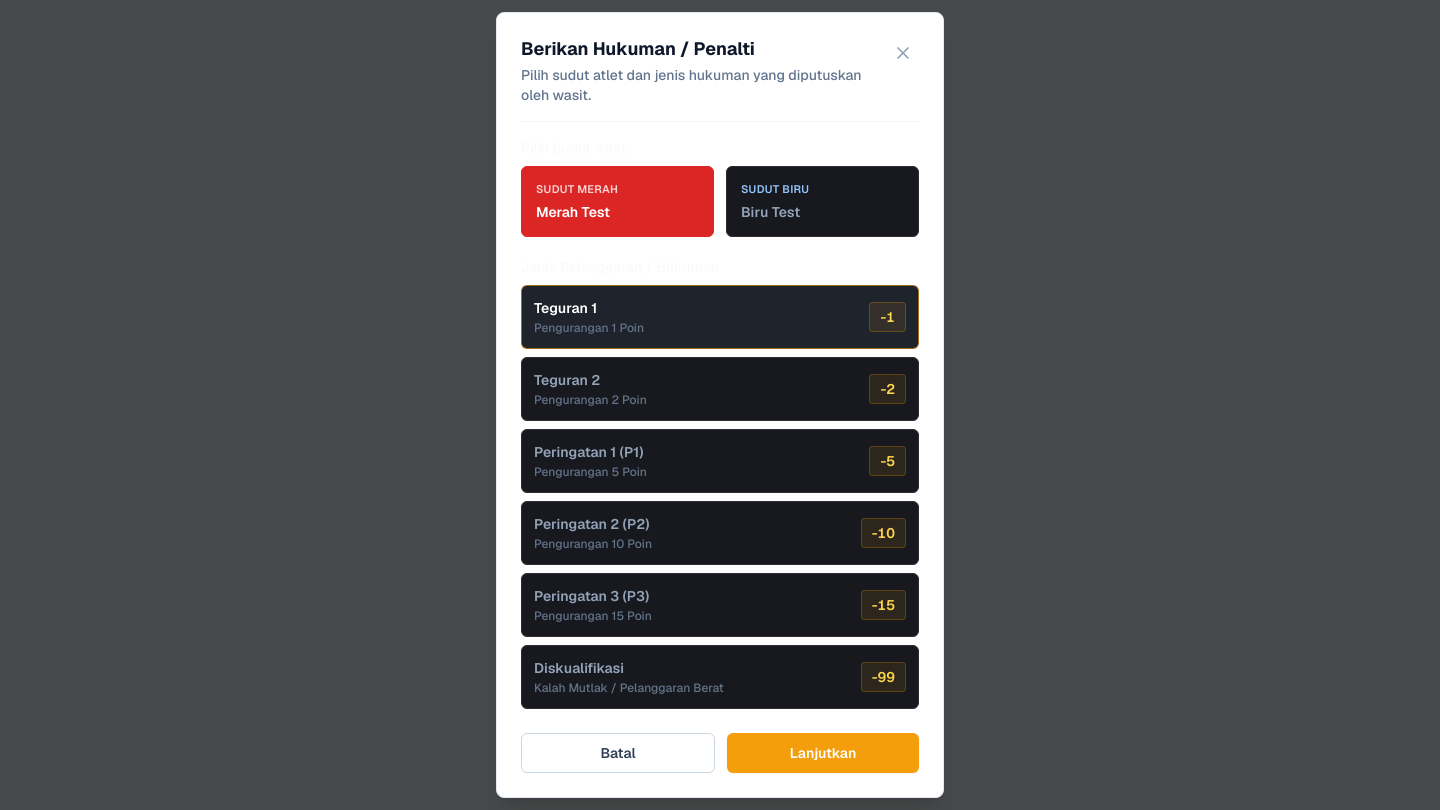
Test: PenaltyDialog › Kembali returns to the selection step without confirming
Click the button "Lanjutkan".
click(823, 753)  # box [727, 733, 919, 773]
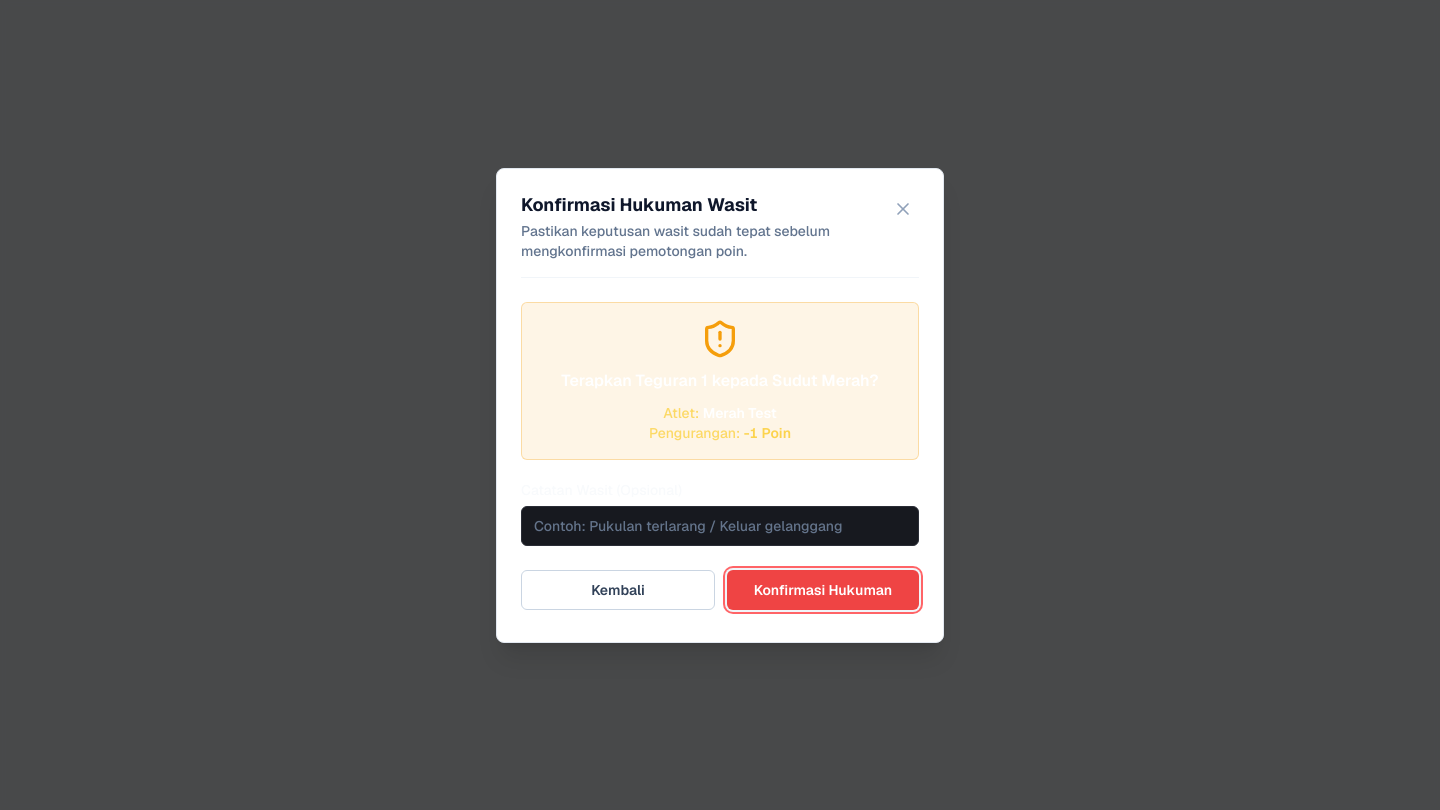
Click the button "Kembali".
click(618, 590)  # box [521, 570, 715, 610]
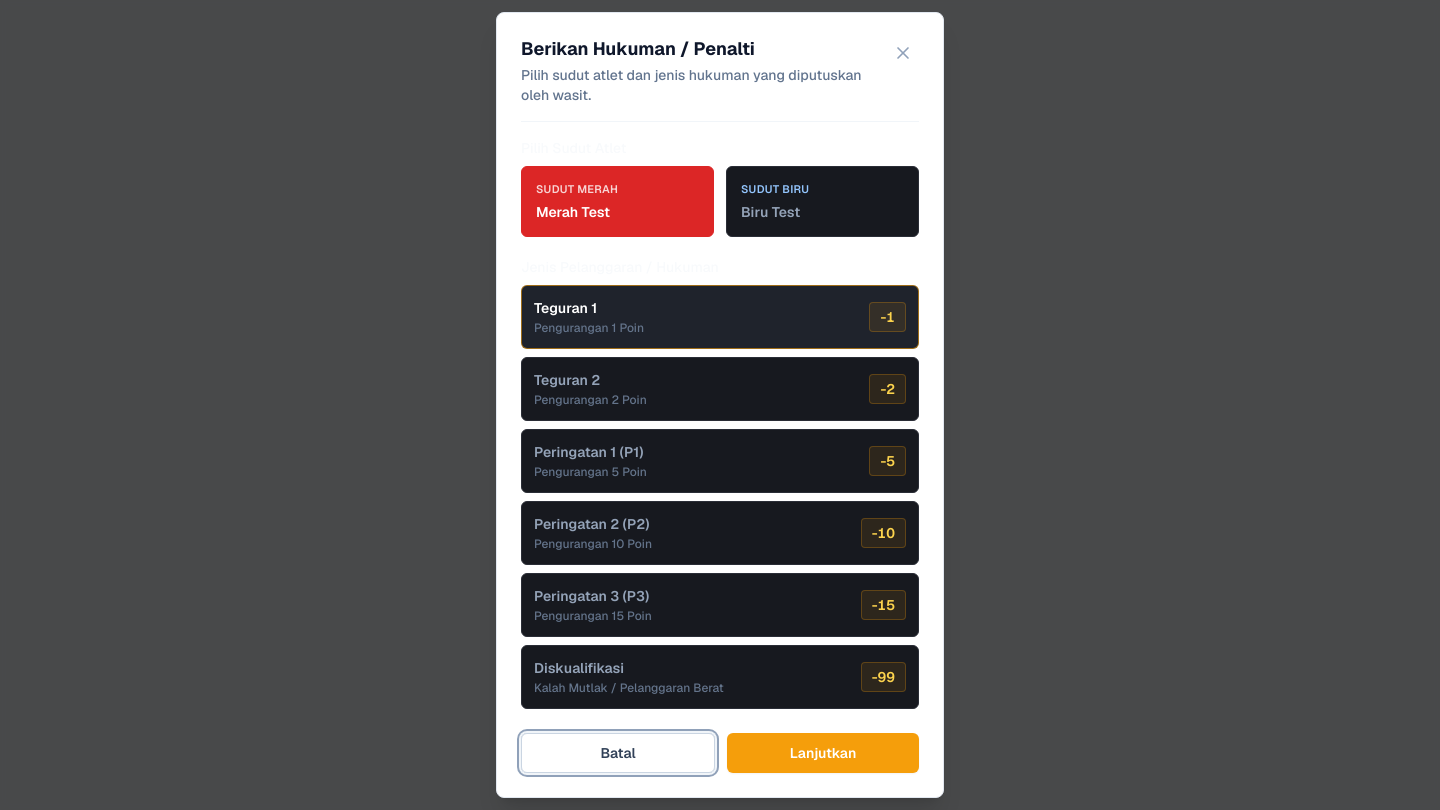
expect the heading "Berikan Hukuman / Penalti" is shown: met, box [521, 37, 755, 60]
